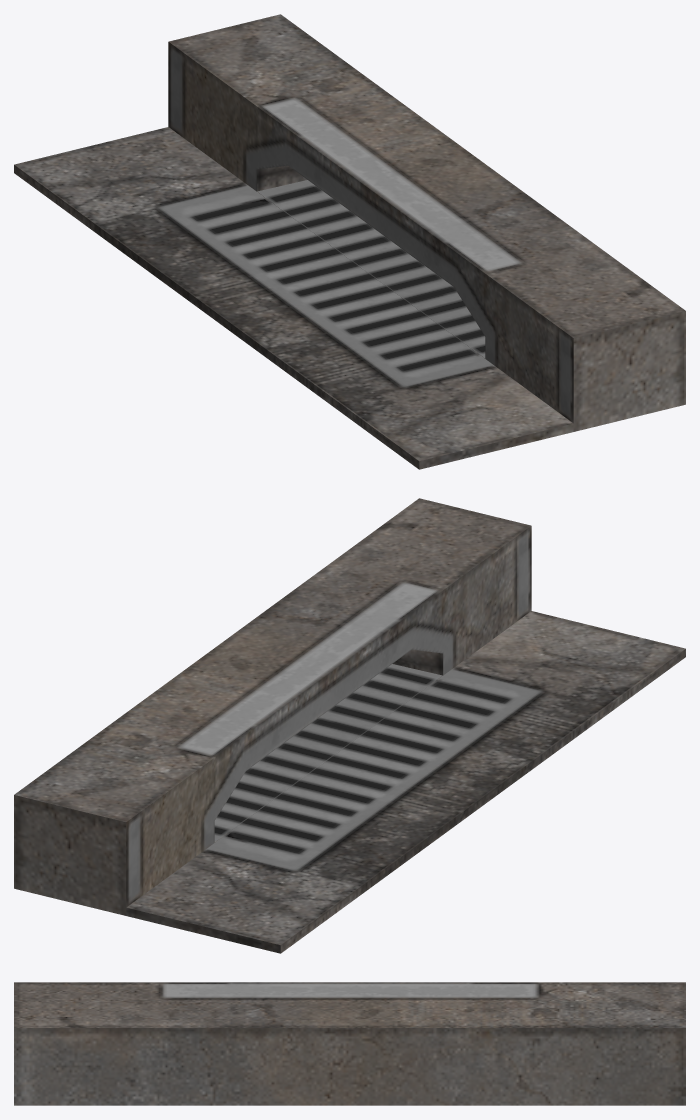
The model's file is CP_Curbstone_Stormdrain_01.fbx.
3 views of the same model, one above another, from view 1: azimuth 30°, elevation 25°; view 2: azimuth 150°, elevation 25°; view 3: azimuth 270°, elevation 25° (orthographic). The views are drawn at different scales.
Parts seen in each view (by area): view 1: CP_Curbstone_Stormdrain_01; view 2: CP_Curbstone_Stormdrain_01; view 3: CP_Curbstone_Stormdrain_01.
Part boxes in pixels (box(x1,y1,x2,y2)): CP_Curbstone_Stormdrain_01: box(14, 14, 685, 469); CP_Curbstone_Stormdrain_01: box(14, 498, 685, 953); CP_Curbstone_Stormdrain_01: box(14, 982, 685, 1105).
Size of the model in its own units: 38 by 12.77 by 100.
